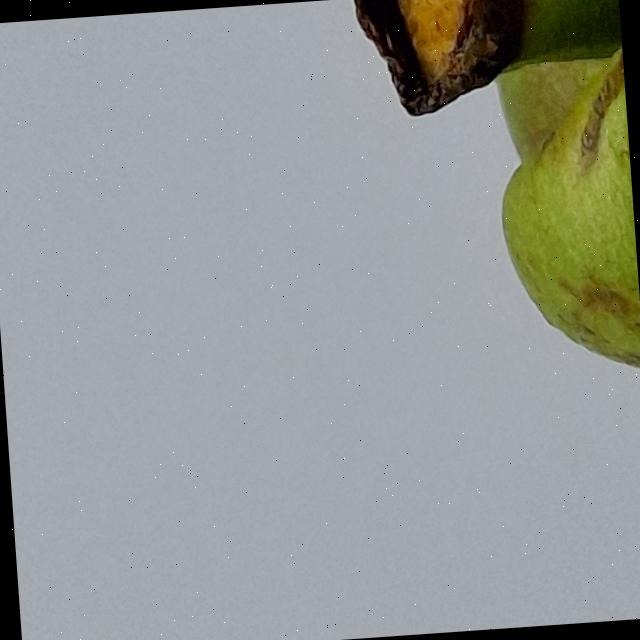mangosteen: (292, 0, 640, 639)
